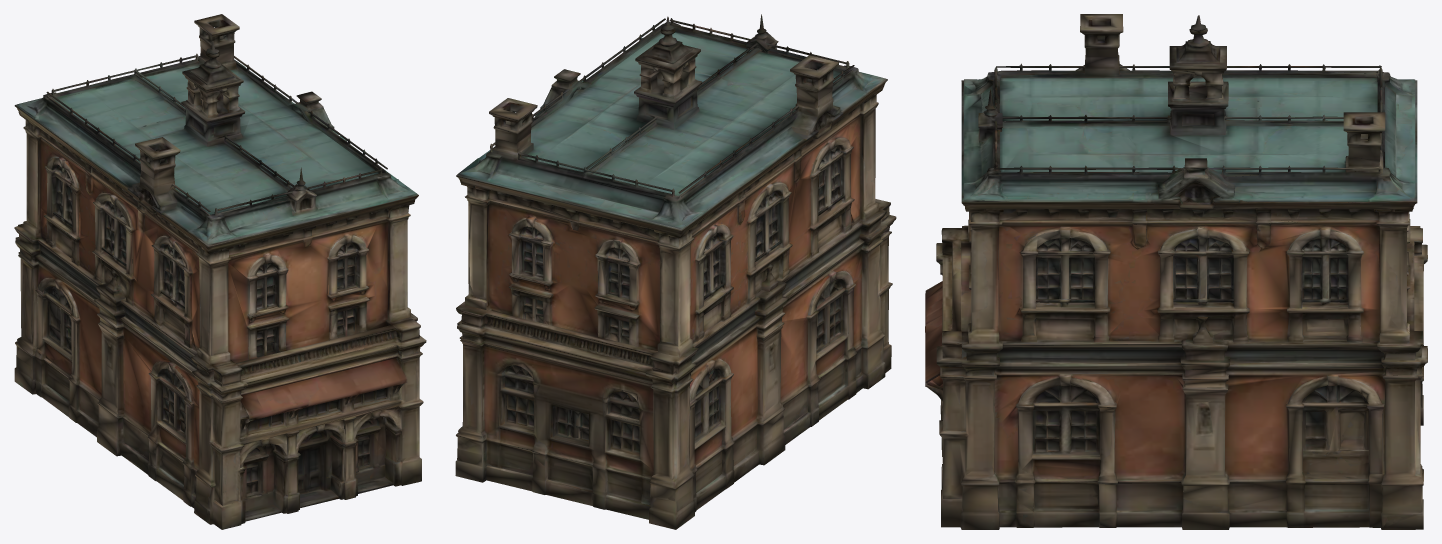
File: transit_ministry_web.glb
3 renders of one model, left to right at view 1: azimuth 30°, elevation 25°; view 2: azimuth 150°, elevation 25°; view 3: azimuth 270°, elevation 25°, orthographic. The views are drawn at different scales.
Visible parts, largest first — view 1: transit_ministry; view 2: transit_ministry; view 3: transit_ministry.
Part boxes in pixels (bbox=[...]): transit_ministry: bbox=[14, 14, 426, 529]; transit_ministry: bbox=[455, 14, 896, 529]; transit_ministry: bbox=[925, 14, 1427, 529].
Bounding box in the file's own units: 10 × 17 × 17.
1 material, 1 textured.
